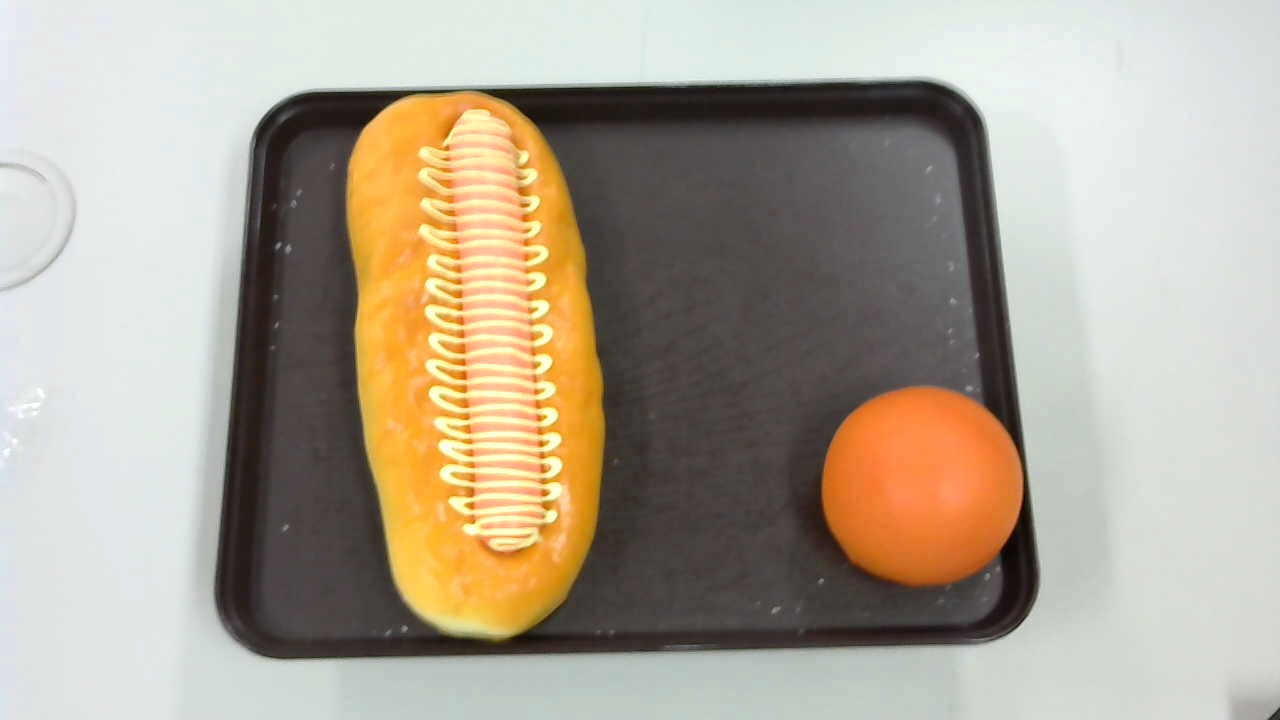bun: (821, 385, 1023, 586)
hot dog: (345, 89, 606, 642)
